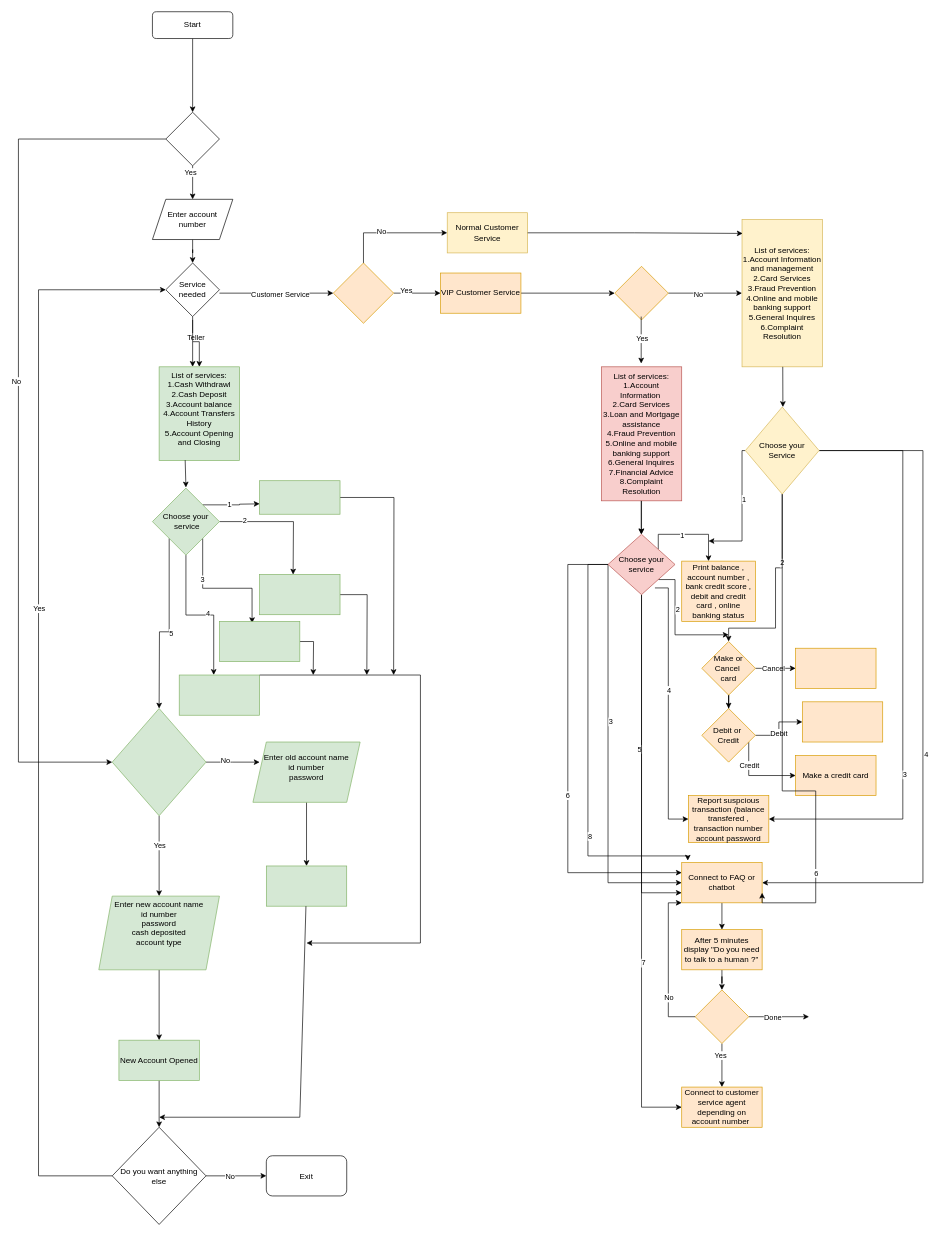
This 940x1236 diagram has some shape labels left out. Each missing label, with the box of its shape:
Account Closed: (266, 865, 347, 906)
Add cash to account and display new balance: (259, 574, 340, 615)
Cancel card: (795, 648, 876, 688)
Display account balance: (219, 621, 300, 662)
Display account transfer history: (179, 674, 260, 715)
Do you have an account: (165, 112, 219, 166)
Do you want to open a new account or close an account: (112, 708, 206, 816)
Human Assistance: (694, 989, 749, 1044)
If account balance > 50000: (333, 262, 394, 323)
Make a a debit card: (802, 701, 883, 742)
subtract cash from account and display new balance: (259, 480, 340, 514)
VIP or not ?: (614, 266, 668, 320)
